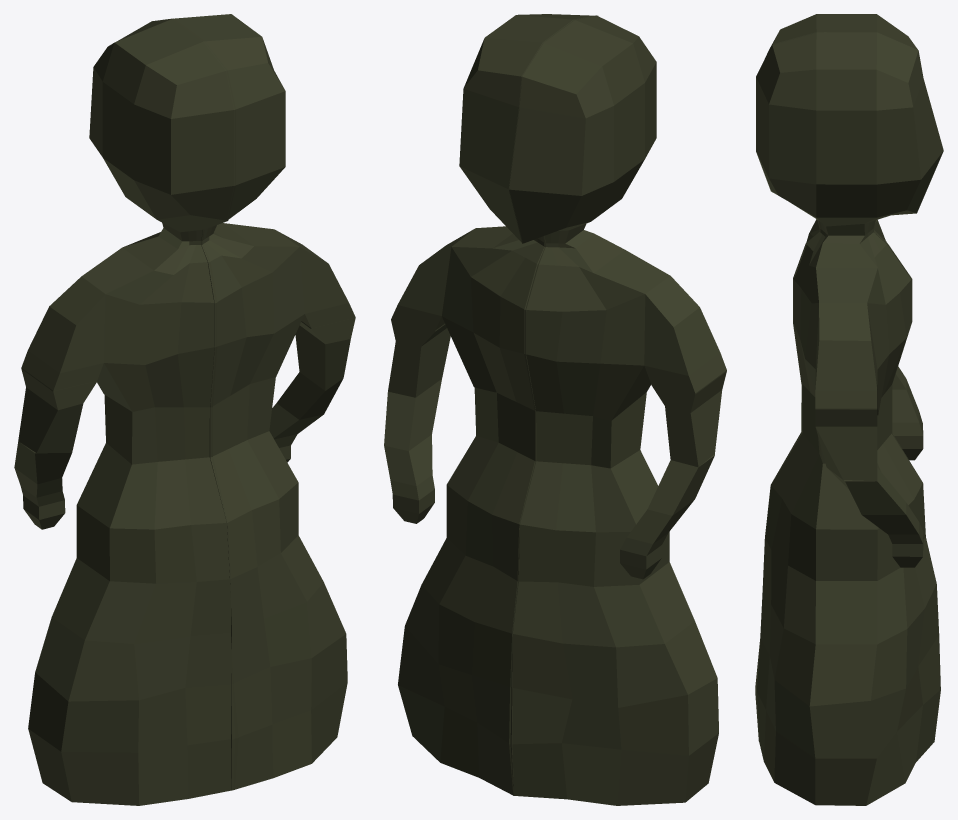
File: person.glb
3 views of the same model, side by side, from view 1: azimuth 30°, elevation 25°; view 2: azimuth 150°, elevation 25°; view 3: azimuth 270°, elevation 25° (orthographic). The views are drawn at different scales.
Parts seen in each view (by area): view 1: Cube; view 2: Cube; view 3: Cube.
Part boxes in pixels (x1,y1,x2,y2): Cube: (14,14,355,805); Cube: (384,14,726,805); Cube: (755,14,943,805).
Size of the model in its own units: 3.83 by 8.62 by 2.08.
